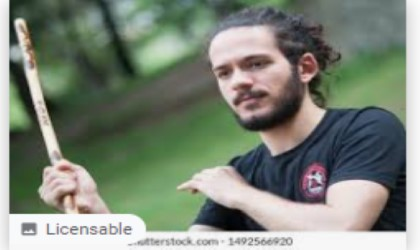baston_e: (11, 40, 79, 151)
baston_v: (56, 191, 86, 219), (9, 13, 34, 32)
